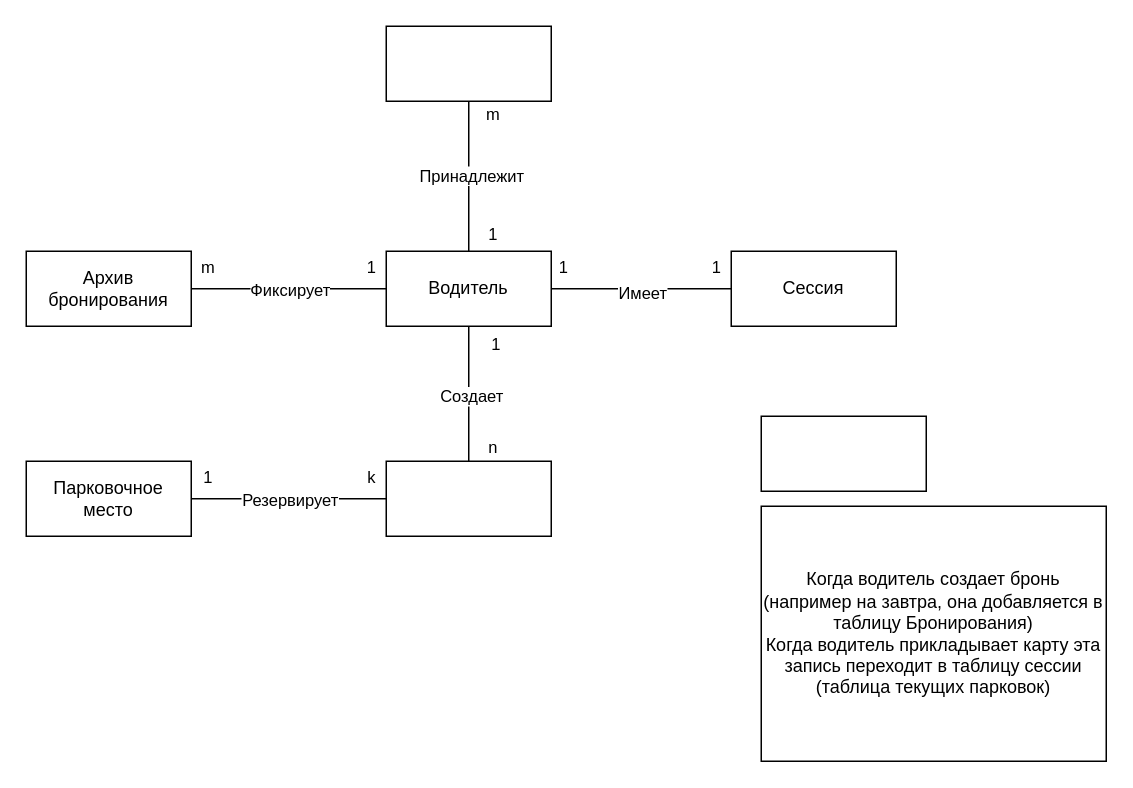
Some shapes in this 1133 by 788 pixel diagram are drawn without their labels. The shapes that lost their labels are listed below. From the top down, each one's box as (x1, y1, x2, y2) in pixels, then its label:
(385, 25, 551, 101): RFID метка
(760, 415, 926, 491): Что с балансом/платежами делать Просто балик
(385, 460, 551, 536): Бронирование
